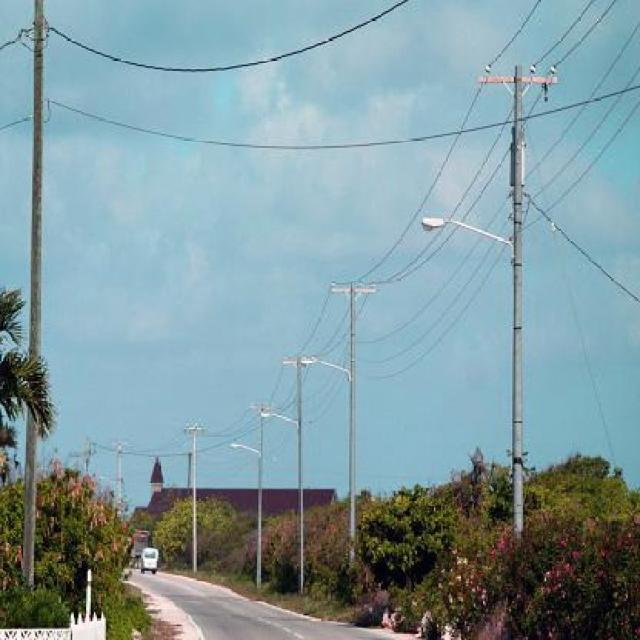pole: (472, 55, 568, 528), (318, 266, 392, 536), (177, 414, 223, 580)
